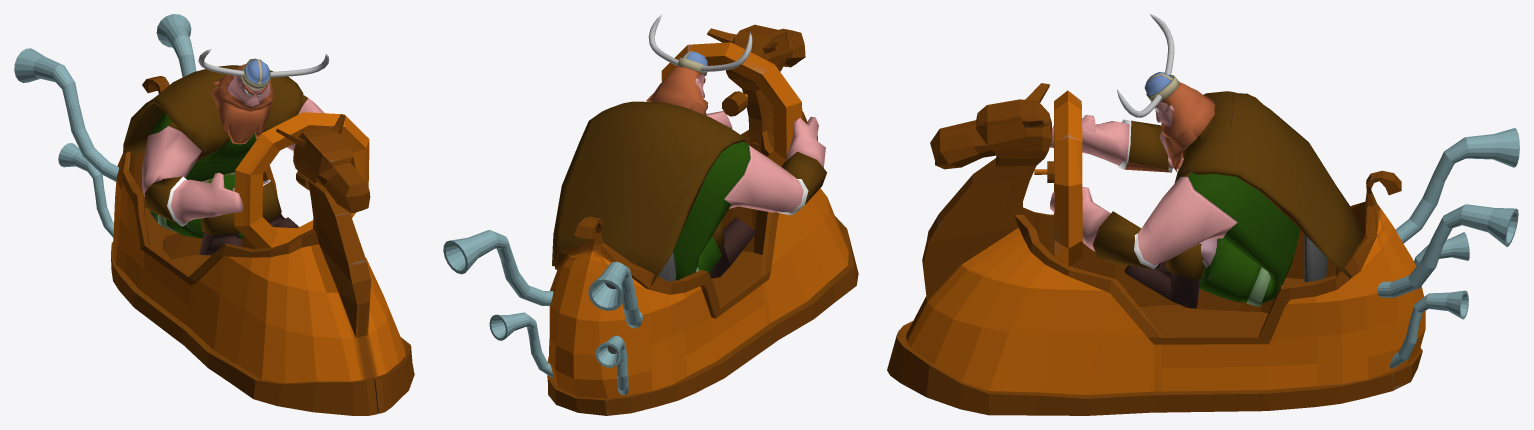
Rendered from vikingoVacile_000440.obj.
3 views of the same model, side by side, from view 1: azimuth 30°, elevation 25°; view 2: azimuth 150°, elevation 25°; view 3: azimuth 270°, elevation 25° (orthographic). The views are drawn at different scales.
Visible parts, largest first — view 1: kartVikingo, Vikingo; view 2: kartVikingo, Vikingo; view 3: kartVikingo, Vikingo.
Boxes of the visible parts, left/top/right/bottom form: kartVikingo: left=14, top=14, right=414, bottom=415; Vikingo: left=123, top=48, right=329, bottom=255; kartVikingo: left=443, top=24, right=858, bottom=415; Vikingo: left=552, top=14, right=826, bottom=285; kartVikingo: left=887, top=83, right=1519, bottom=415; Vikingo: left=1050, top=14, right=1361, bottom=308.
Size of the model in its own units: 4.31 by 5.95 by 10.31.
Materials: 2 (2 with a texture image).
